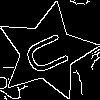U: (22, 27, 80, 79)
